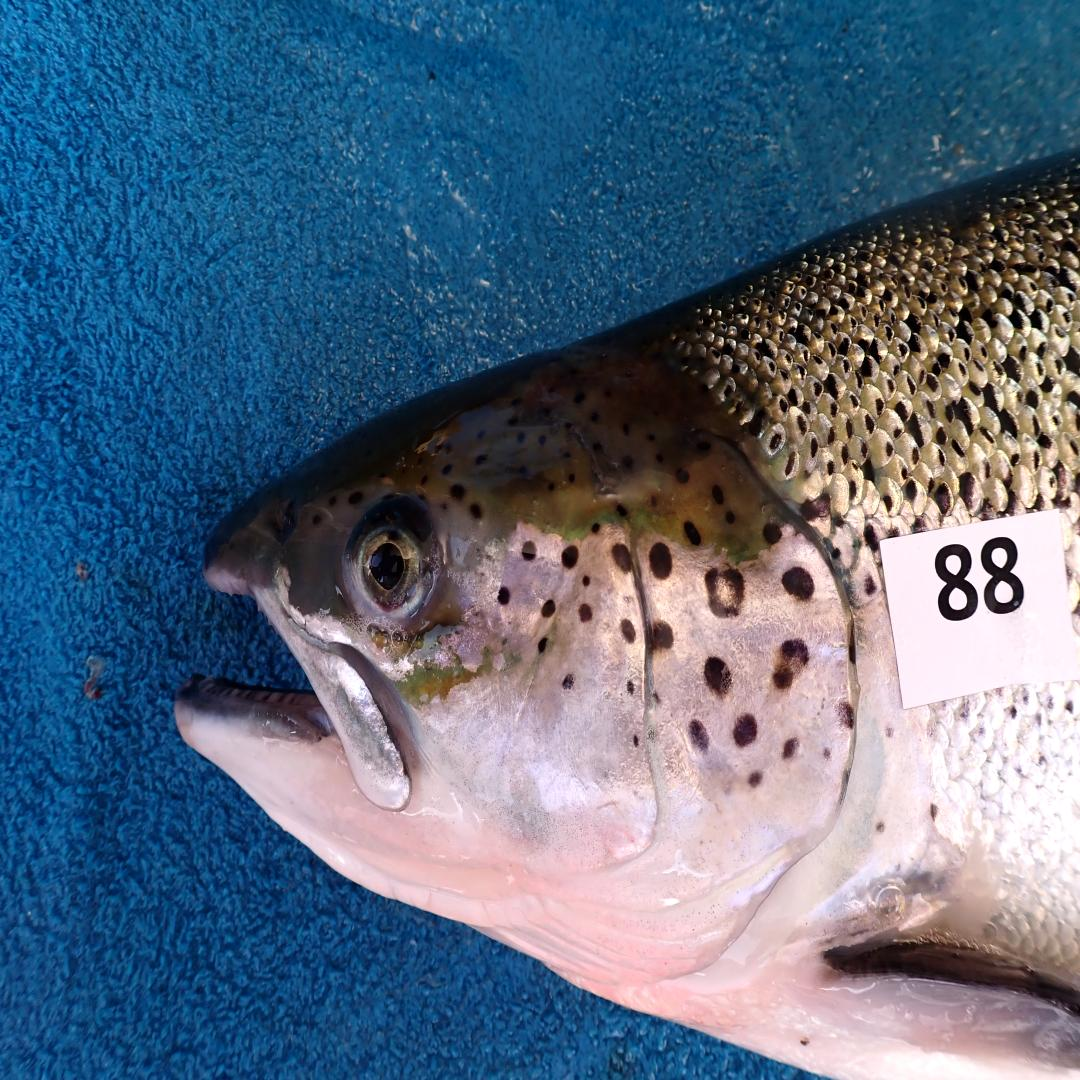roi: (415, 524, 855, 1002)
